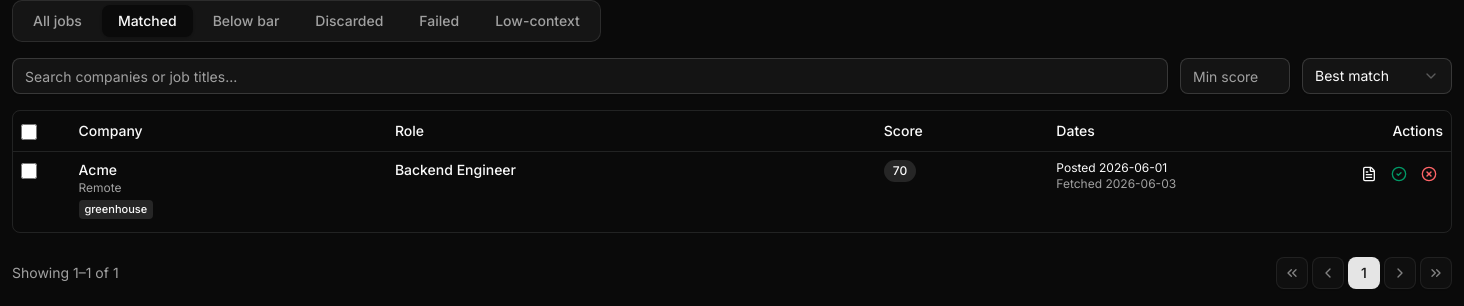
Test case: DiscoveredJobsTable › falls back to the legacy reasoning line for a below-bar row without a scorecard
Click the button "Below bar" at (246, 21), box [197,5,295,37]
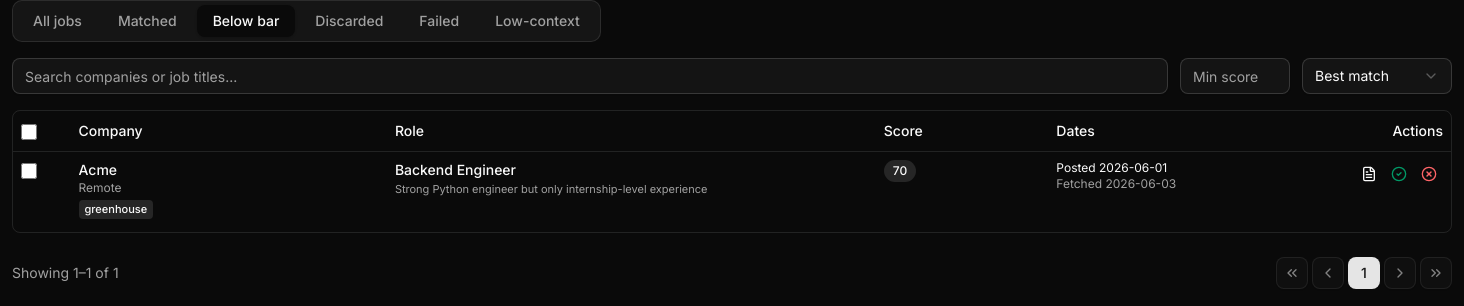
Check: the text "Strong Python engineer but only internship-level experience" is shown, box [395,182,708,196]
